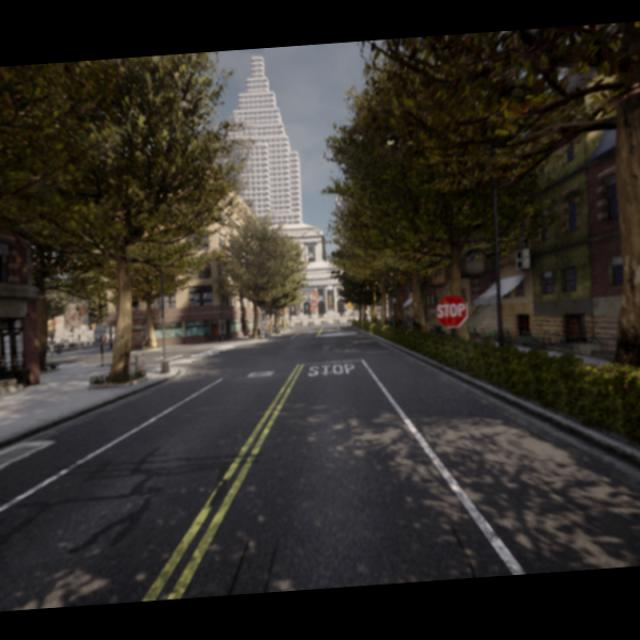stop sign: (432, 290, 470, 331), (436, 301, 466, 320)
